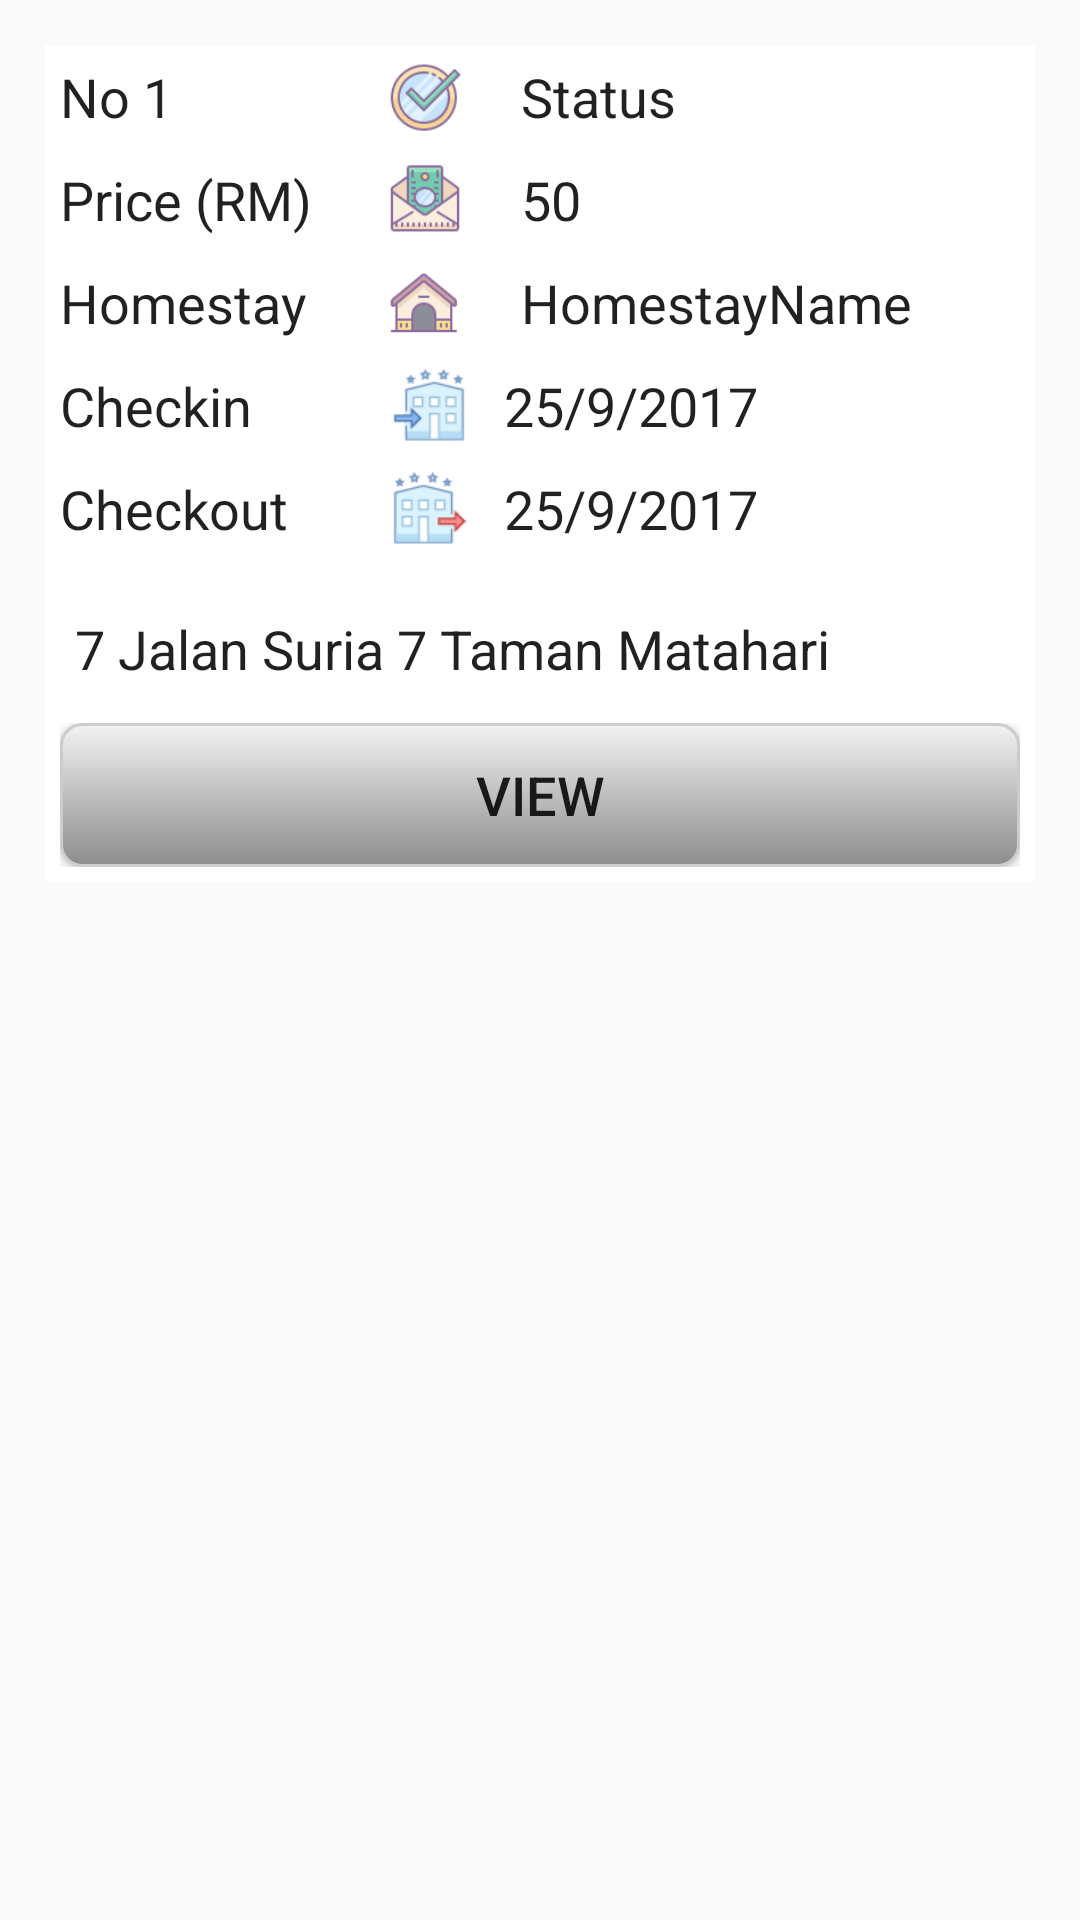

Locate icon controls on the screen. Image size 1080x1920, boxes as (x1, y1, x2, y2).
check: (390, 64, 461, 131)
money: (390, 165, 460, 232)
